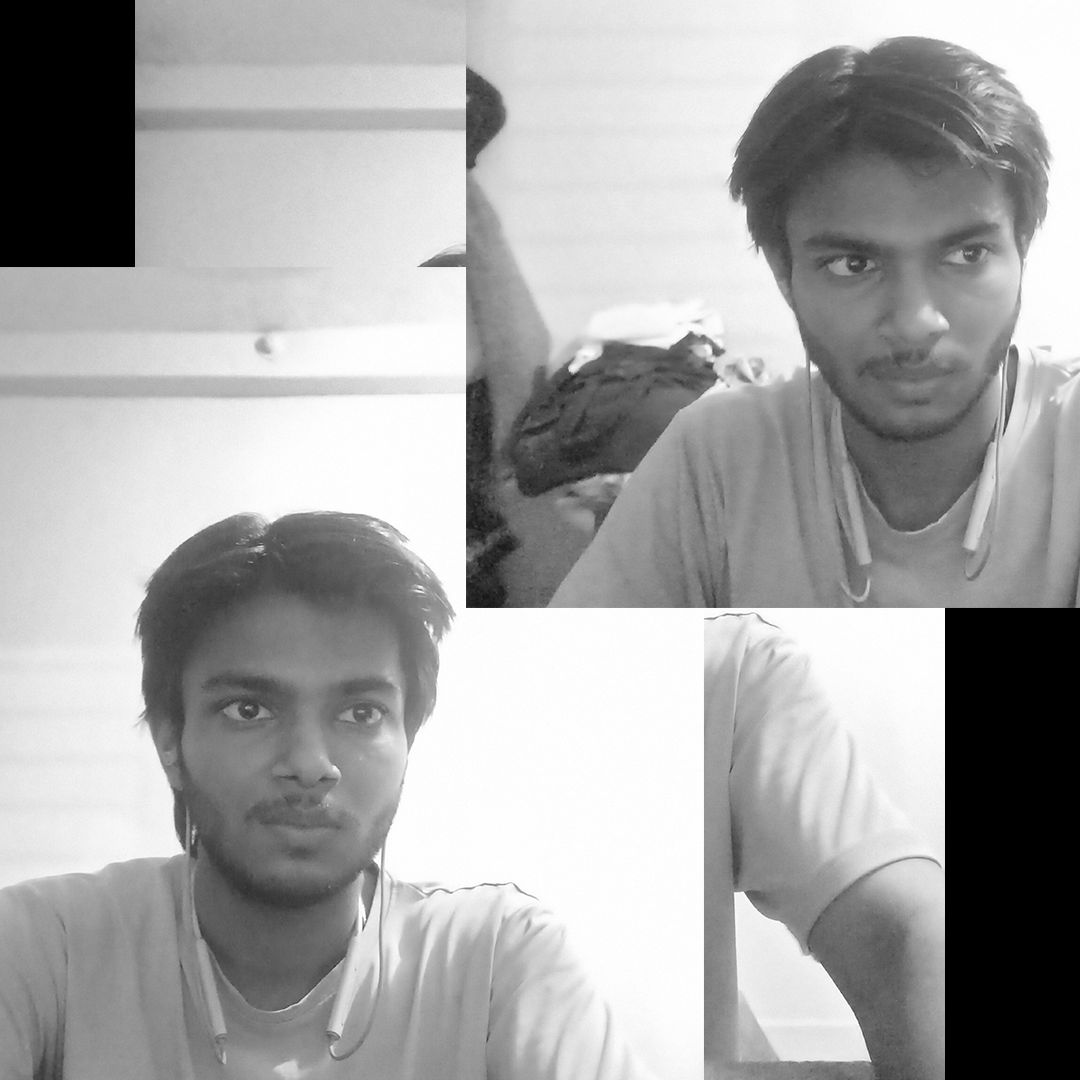Focused: (41, 427, 514, 951), (685, 18, 1075, 503)
